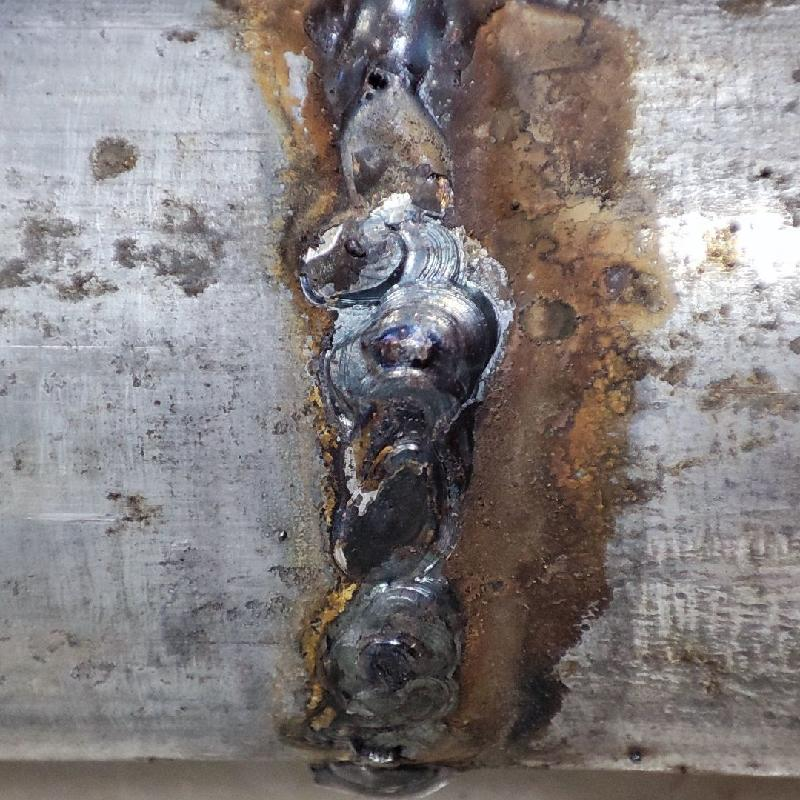Surface_pores: (358, 62, 412, 107)
Weld: (293, 0, 488, 112)
crater: (323, 85, 480, 277)
wrong_size: (306, 280, 500, 795)
